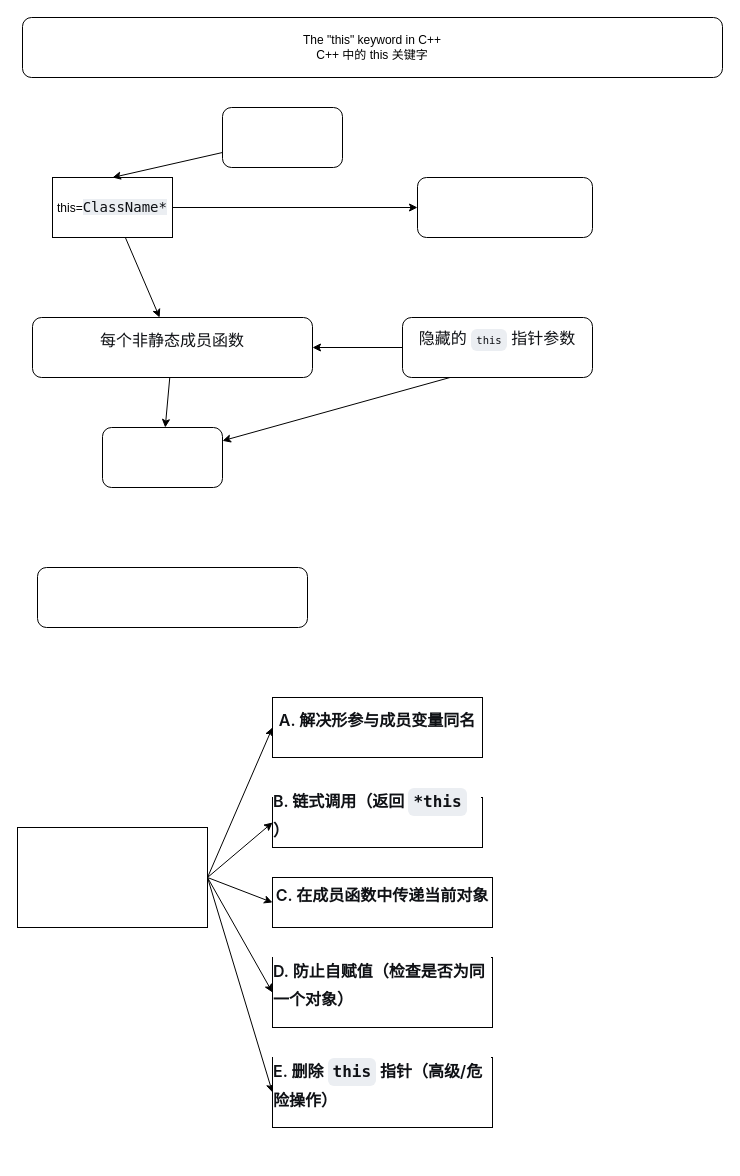
Some shapes in this 740 by 1176 pixel diagram are drawn without their labels. Each missing label, with the centre of its shape:
obj.func(): the point at 162,457
this 核心使用场景: the point at 112,877
this->name 等价于 (*this).name: the point at 172,597
指向 调用当前成员函数的那个对象本身: the point at 504,207
隐 藏 的指针: the point at 282,137
